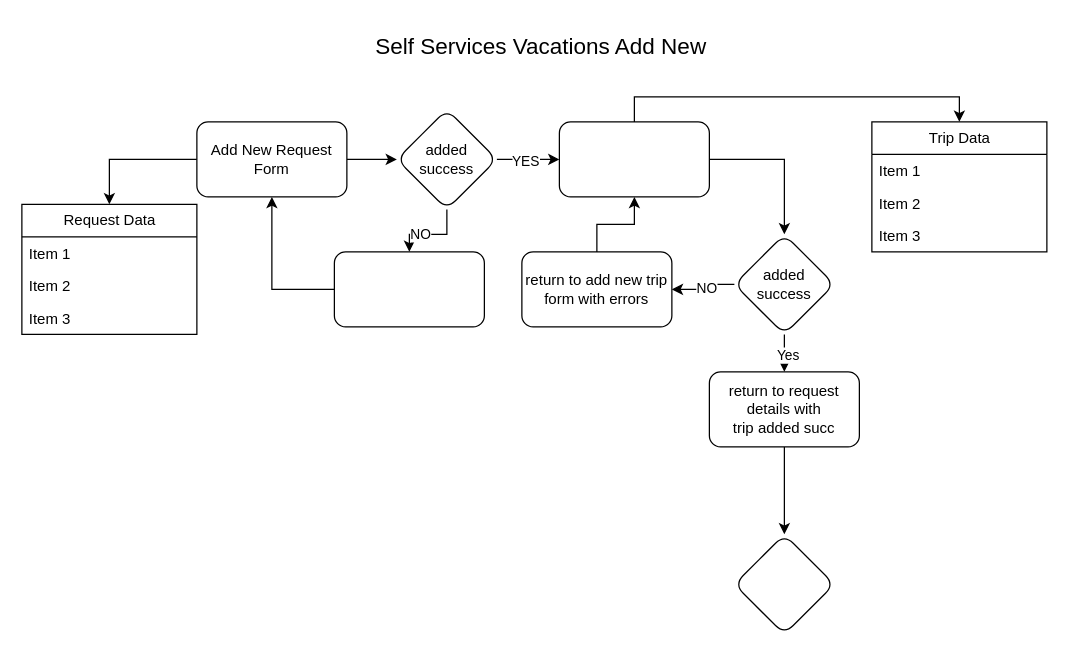
The diagram is 1069 pixels wide and 656 high, and some of its shapes have lost their labels. The shapes that lost their labels are listed below. From the top down, each one's centre as x and y in pixels, then its label:
At (633,159): "retrun to request details to add trips".
At (408,289): "retrurn to add new request form with errors".
At (783,583): "submit request".
